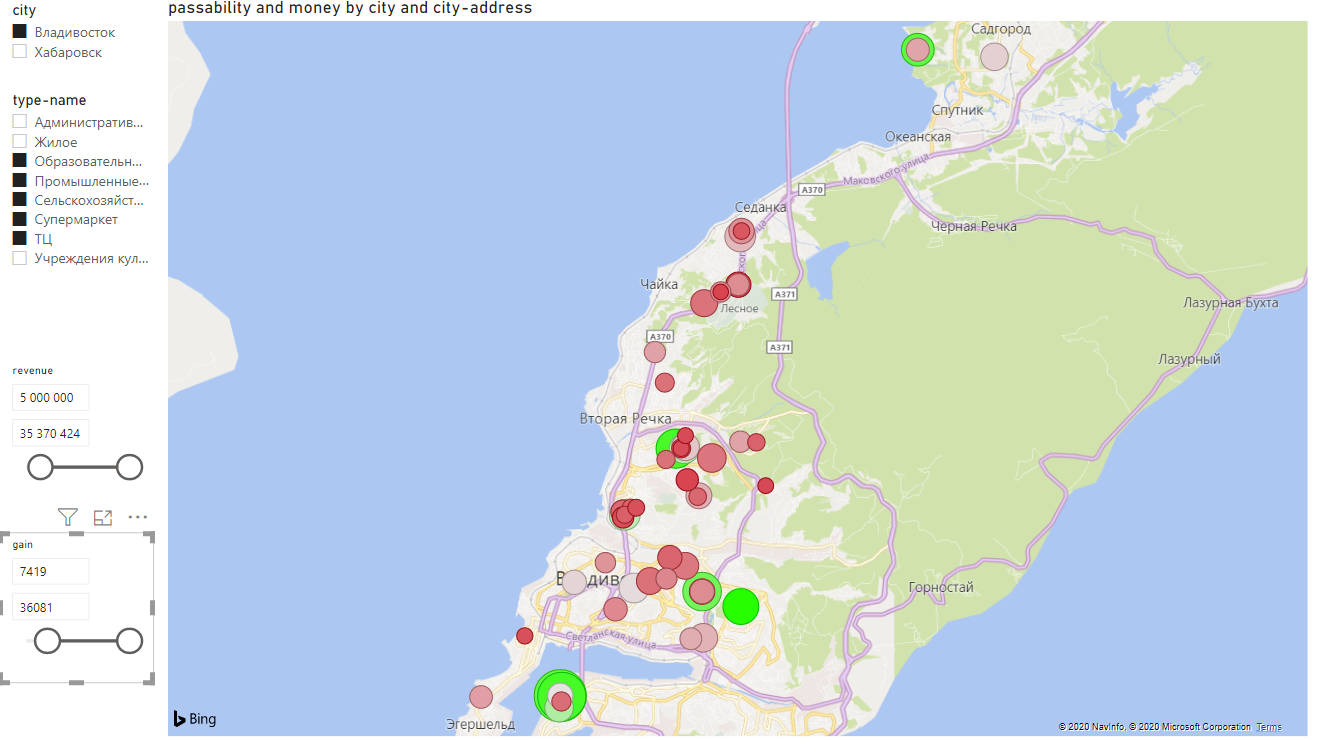

This screenshot's page, from the dashboard's own definition file:
{"tool":"powerbi","page":{"name":"map","canvas":[1280,720],"ordinal":0},"visuals":[{"type":"slicer","fields":{"Values":["places.city"]},"box":[0,0,149.5,86.8],"z":0},{"type":"map","fields":{"Category":["places.city","places.city-address"],"Size":["Sum(places.passability)"]},"box":[158,0,1121.6,720],"z":1},{"type":"slicer","fields":{"Values":["buildings-type.type-name"]},"box":[0,170.1,158,226.7],"z":2},{"type":"slicer","fields":{"Values":["places.revenue"]},"box":[0,410.1,149.5,145.9],"z":3},{"type":"slicer","fields":{"Values":["places.gain"]},"box":[0,574.1,149.5,145.9],"z":4},{"type":"slicer","fields":{"Values":["atms.bank"]},"box":[0,86.8,149.5,63.9],"z":5}]}

Visuals, with their boxes in screenshot pixels (x1, y1, x2, y2), scaled from the page's 1280x720 canvas onto the 1318x739 screenshot:
slicer - places.city: {"x1": 0, "y1": 0, "x2": 154, "y2": 89}
map - places.city x places.city-address: {"x1": 163, "y1": 0, "x2": 1317, "y2": 738}
slicer - buildings-type.type-name: {"x1": 0, "y1": 175, "x2": 163, "y2": 407}
slicer - places.revenue: {"x1": 0, "y1": 421, "x2": 154, "y2": 571}
slicer - places.gain: {"x1": 0, "y1": 589, "x2": 154, "y2": 738}
slicer - atms.bank: {"x1": 0, "y1": 89, "x2": 154, "y2": 155}
